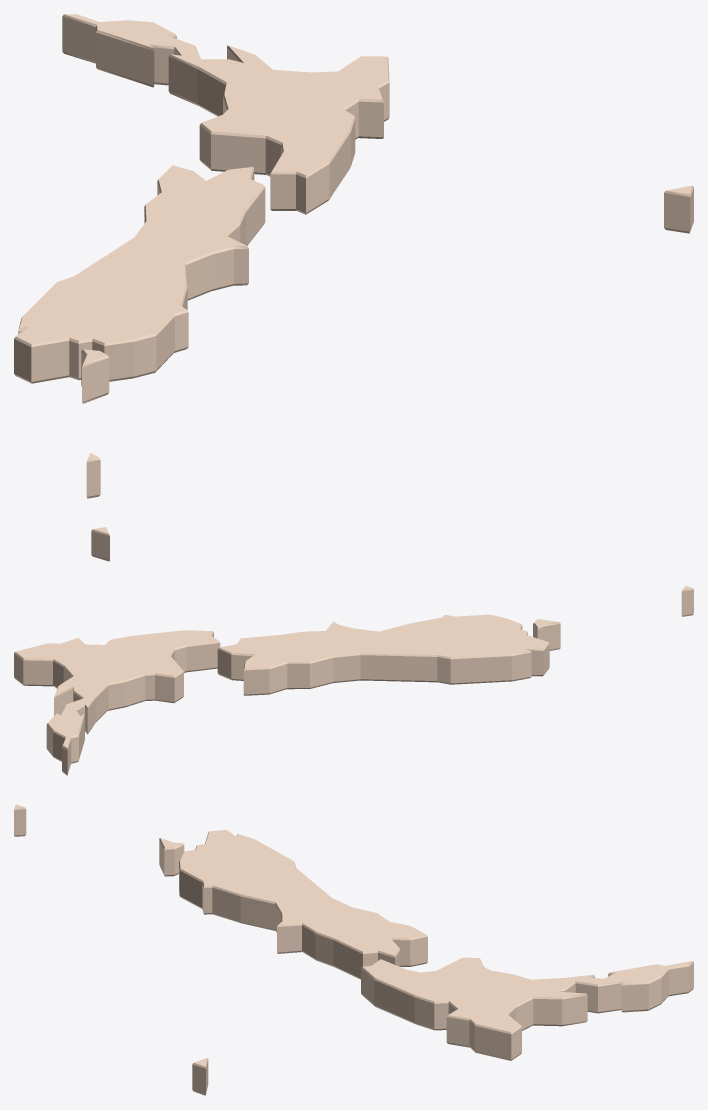
File: NZL.glb
The picture shows the model from 3 angles, top to bottom: view 1: azimuth 30°, elevation 25°; view 2: azimuth 150°, elevation 25°; view 3: azimuth 270°, elevation 25°; orthographic projection. The views are drawn at different scales.
Size of the model in its own units: 1.33 by 0.068 by 1.45.
